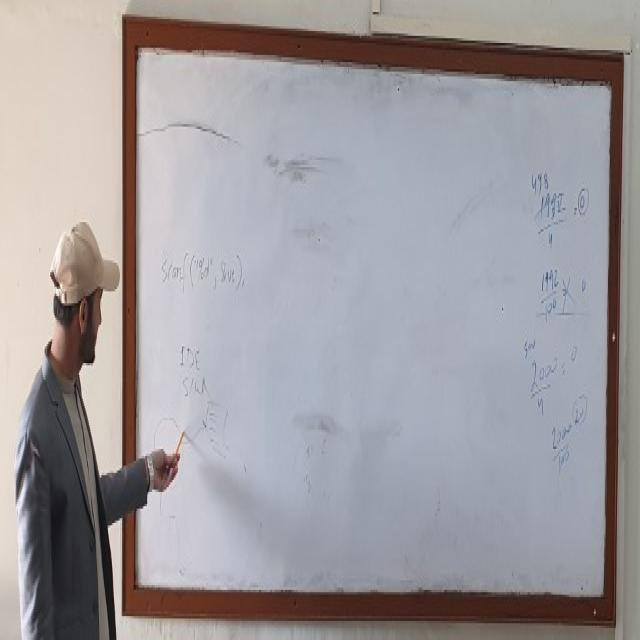Instructor: (21, 212, 118, 640)
White-board: (129, 26, 616, 611)
